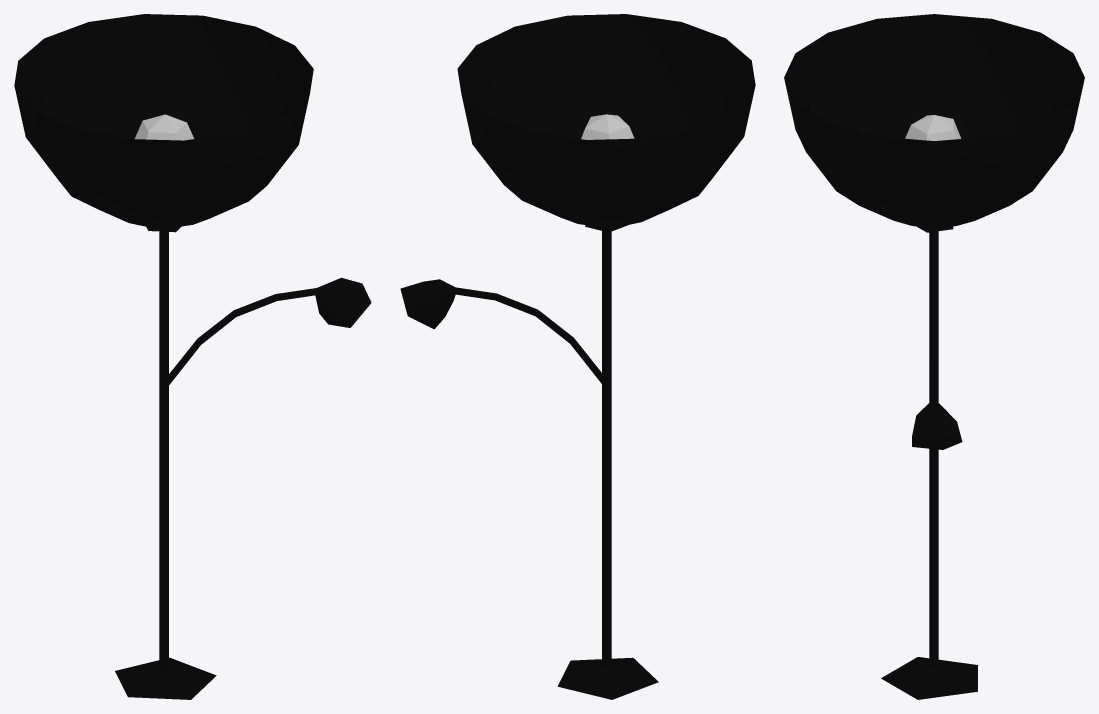
The model's file is FloorLampB_On.glb.
3 views of the same model, side by side, from view 1: azimuth 30°, elevation 25°; view 2: azimuth 150°, elevation 25°; view 3: azimuth 270°, elevation 25° (orthographic).
Parts seen in each view (by area): view 1: floorLampB_Off; view 2: floorLampB_Off; view 3: floorLampB_Off.
Part boxes in pixels (x1,y1,x2,y2): floorLampB_Off: (14, 14, 371, 699); floorLampB_Off: (400, 14, 755, 699); floorLampB_Off: (784, 14, 1084, 699).
Size of what is drawn, in the model's own units: 0.7882 by 1.36 by 0.6182.
Materials: 1 (1 with a texture image).
